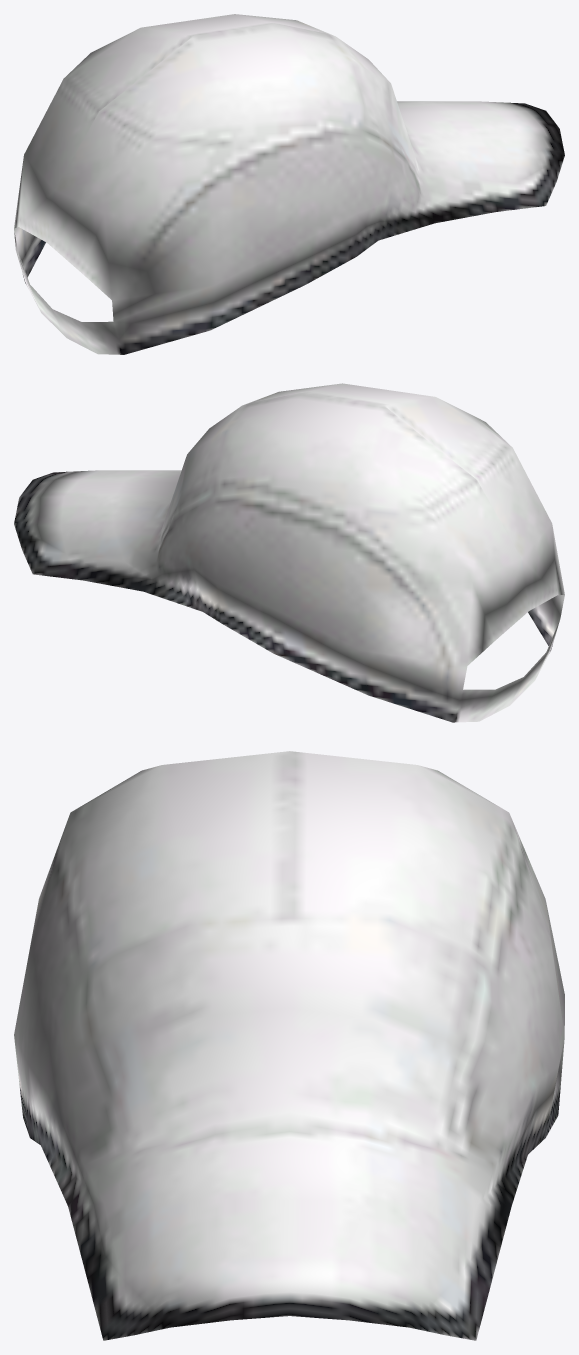
The model's file is hat_0400018.FBX.
3 views of the same model, one above another, from view 1: azimuth 30°, elevation 25°; view 2: azimuth 150°, elevation 25°; view 3: azimuth 270°, elevation 25° (orthographic). The views are drawn at different scales.
Parts seen in each view (by area): view 1: hat_0400018; view 2: hat_0400018; view 3: hat_0400018.
Boxes of the visible parts, x1=… form: hat_0400018: x1=14, y1=14, x2=564, y2=354; hat_0400018: x1=14, y1=383, x2=564, y2=722; hat_0400018: x1=14, y1=751, x2=564, y2=1340.
Bounding box in the file's own units: 40.47 × 20.99 × 22.8.
